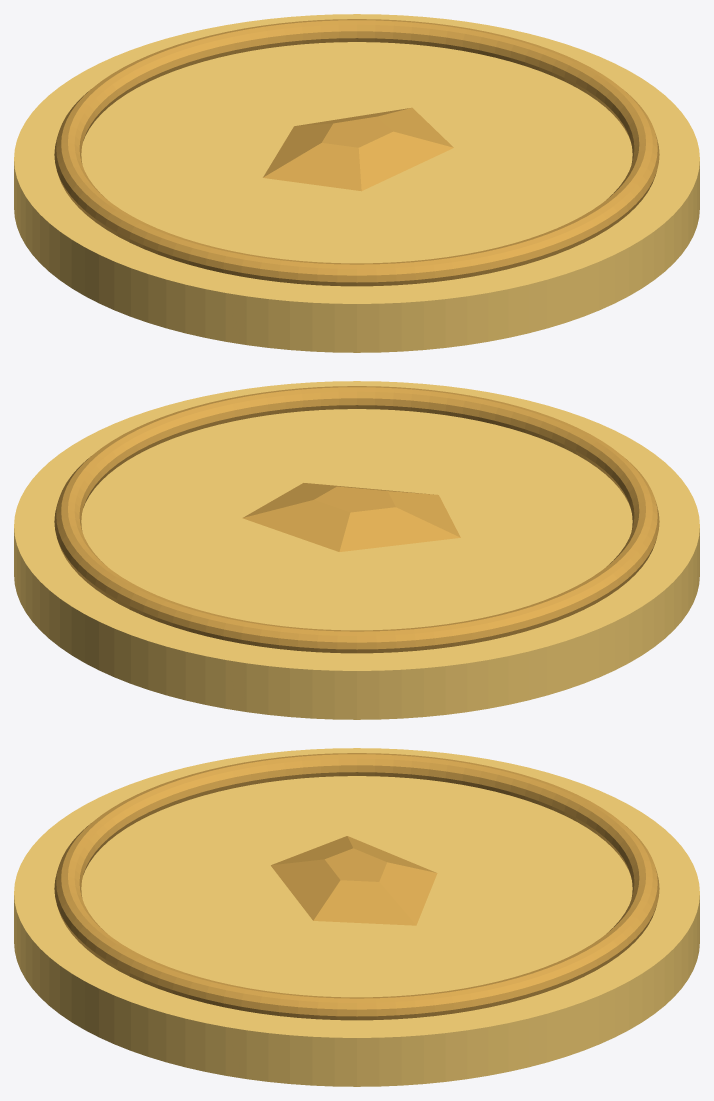
The model's file is coin.glb.
3 views of the same model, one above another, from view 1: azimuth 30°, elevation 25°; view 2: azimuth 150°, elevation 25°; view 3: azimuth 270°, elevation 25° (orthographic).
Visible parts, largest first — view 1: Reward Coin, Raised Rim, Simple Star; view 2: Reward Coin, Raised Rim, Simple Star; view 3: Reward Coin, Raised Rim, Simple Star.
Part boxes in pixels (x1=…): Reward Coin: x1=14, y1=14, x2=699, y2=352; Raised Rim: x1=54, y1=19, x2=659, y2=286; Simple Star: x1=263, y1=107, x2=453, y2=191; Reward Coin: x1=14, y1=381, x2=699, y2=719; Raised Rim: x1=54, y1=386, x2=659, y2=653; Simple Star: x1=242, y1=483, x2=460, y2=551; Reward Coin: x1=14, y1=748, x2=699, y2=1086; Raised Rim: x1=54, y1=753, x2=659, y2=1020; Simple Star: x1=271, y1=836, x2=437, y2=925.
Bounding box in the file's own units: 2.8 × 0.34 × 2.8.
